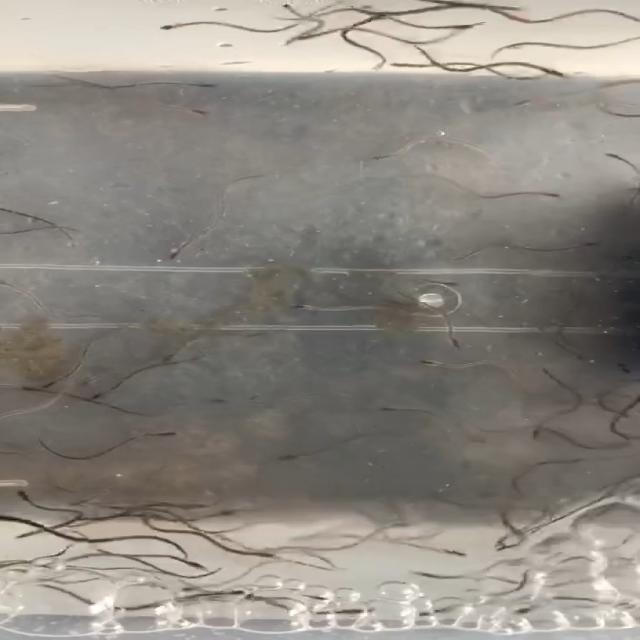active_glass_eel: (268, 447, 317, 466), (416, 354, 464, 371), (504, 93, 547, 111), (172, 78, 224, 92), (419, 277, 470, 291), (81, 387, 124, 403), (283, 298, 332, 312), (365, 146, 408, 161), (238, 546, 275, 563), (209, 586, 250, 601), (482, 532, 520, 548), (16, 384, 56, 399), (365, 398, 400, 415), (173, 104, 214, 118), (432, 22, 488, 32), (163, 239, 191, 259), (168, 557, 208, 571), (525, 66, 567, 79), (144, 428, 180, 443), (70, 491, 106, 506), (439, 334, 468, 352), (40, 374, 70, 391), (609, 360, 640, 376), (341, 606, 386, 617), (440, 548, 475, 562), (414, 606, 451, 619), (16, 486, 46, 502), (184, 499, 218, 513), (372, 60, 418, 70), (514, 604, 551, 616), (407, 570, 443, 582), (275, 34, 310, 46), (574, 238, 604, 252), (496, 541, 526, 555), (538, 187, 569, 200), (270, 0, 299, 13), (200, 398, 235, 408), (211, 509, 246, 519), (150, 22, 190, 30), (598, 152, 630, 162), (528, 426, 550, 440), (160, 350, 177, 367)
